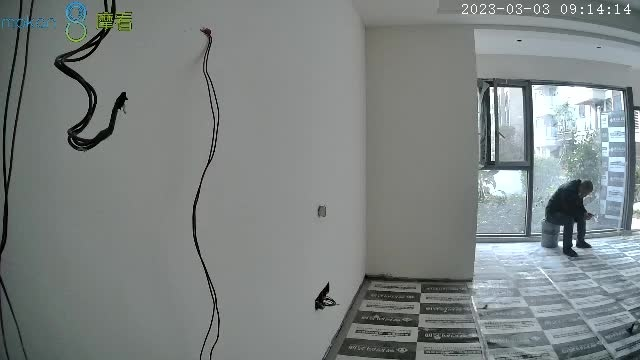people: (546, 179, 596, 258)
window: (477, 81, 633, 240)
